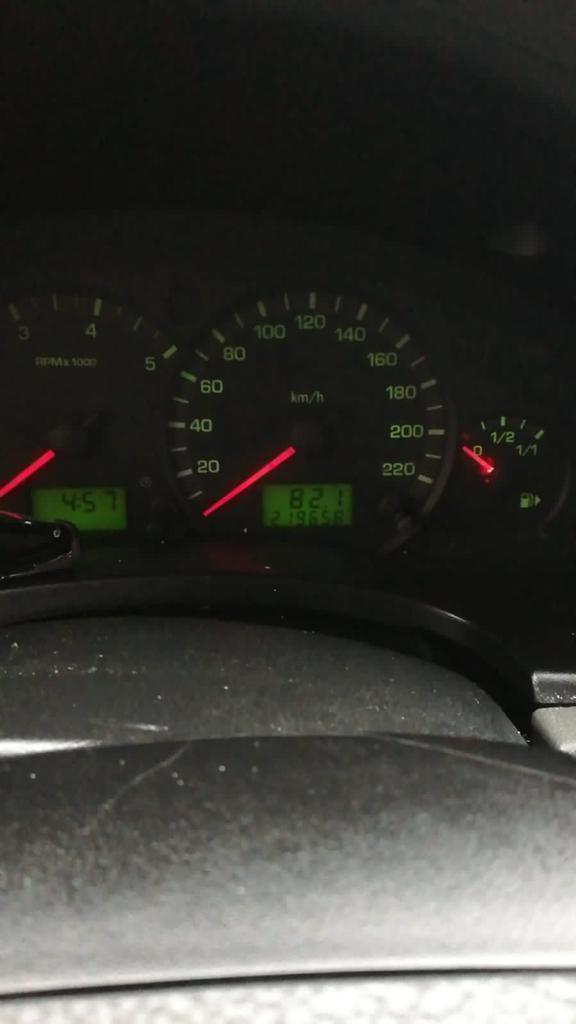,: (323, 502, 331, 509)
1: (336, 487, 343, 507), (287, 511, 294, 526)
2: (309, 486, 322, 508), (270, 509, 280, 525)
5: (321, 510, 332, 525)
6: (308, 509, 318, 525)
8: (289, 486, 304, 509), (333, 508, 345, 524)
9: (295, 509, 305, 525)
odometer: (262, 483, 355, 527)
